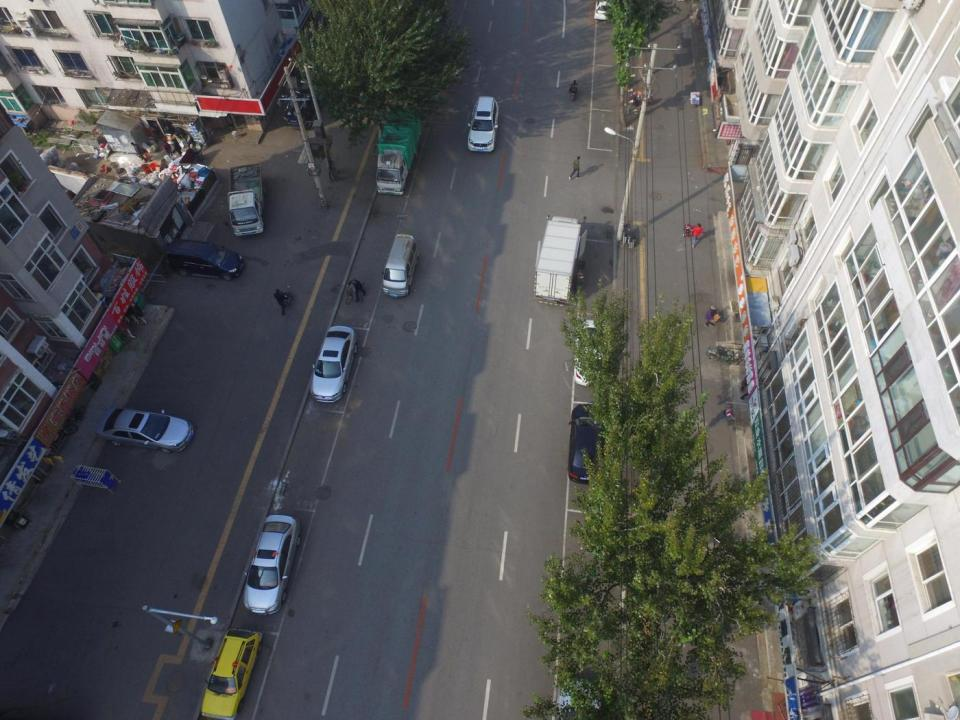car: (242, 513, 301, 616), (199, 626, 263, 720), (95, 407, 194, 454), (310, 325, 358, 403), (567, 404, 610, 484), (574, 319, 610, 386), (467, 95, 499, 153), (593, 0, 617, 21)
truck: (532, 214, 588, 306), (376, 109, 422, 195), (226, 162, 265, 236)
van: (166, 238, 246, 282), (381, 233, 419, 298)
